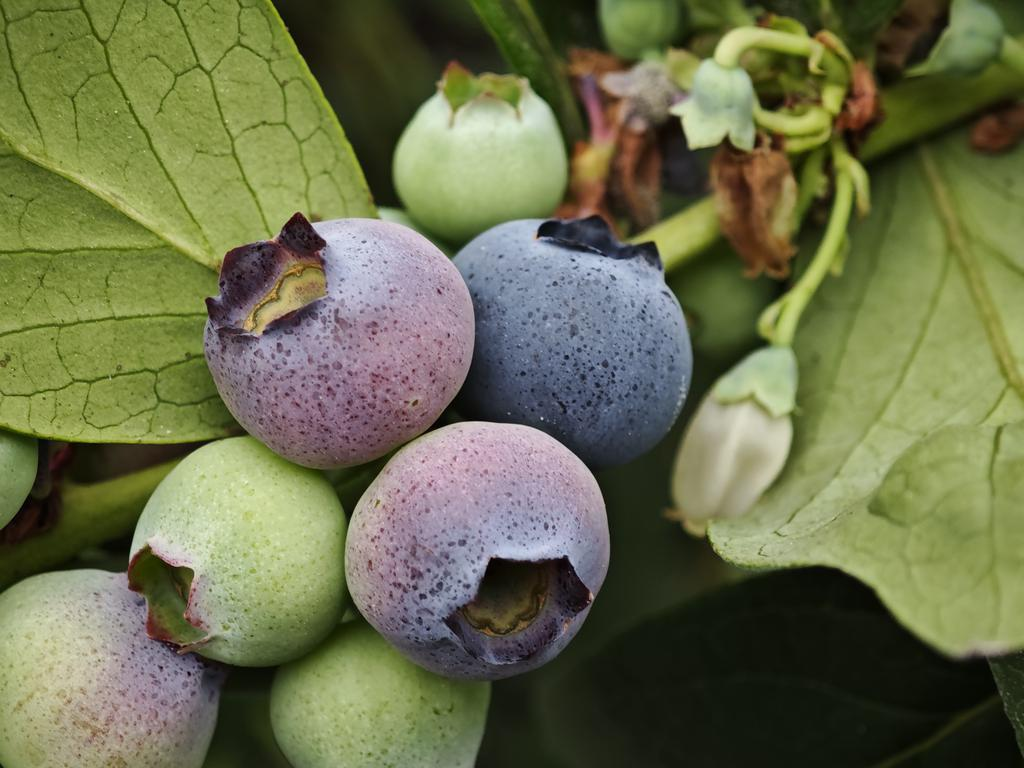RipeBlueBerry: (450, 214, 692, 453)
Semi-RipeBlueBerry: (346, 423, 618, 679), (203, 217, 479, 466)
UnripeBlueBerry: (397, 66, 574, 224)
